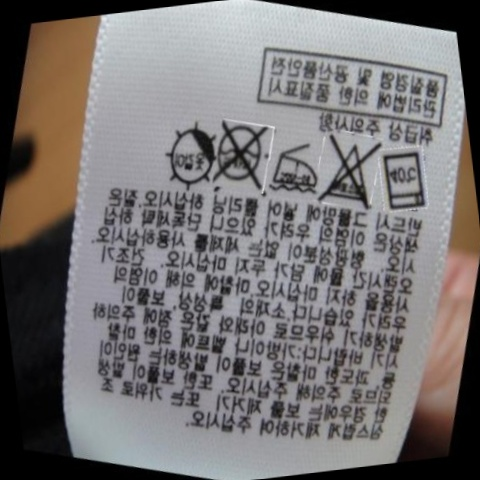40C: (378, 146, 434, 215)
DN_dry_clean: (215, 112, 268, 191)
iron_low: (269, 140, 321, 199)
line_dry_in_shade: (159, 119, 217, 191)
non_chlorine_bleach: (317, 127, 382, 212)
